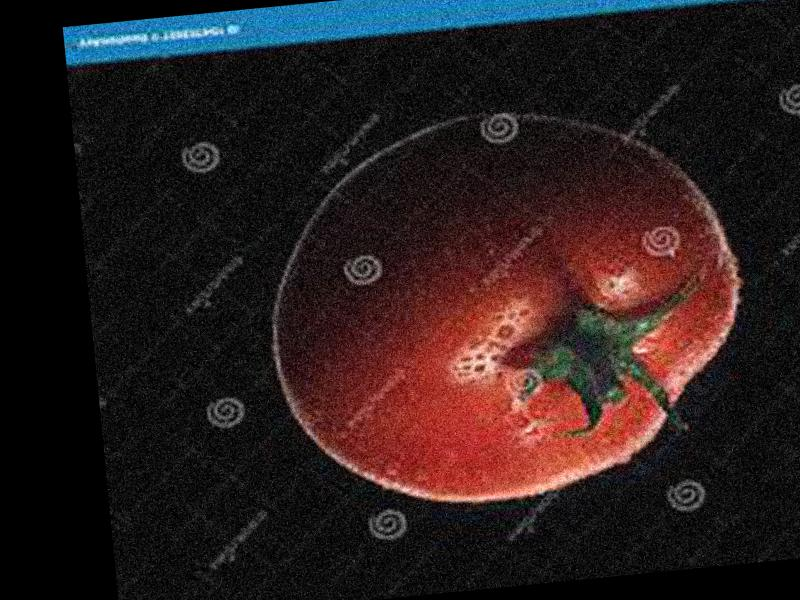Tomato: (250, 94, 759, 521)
